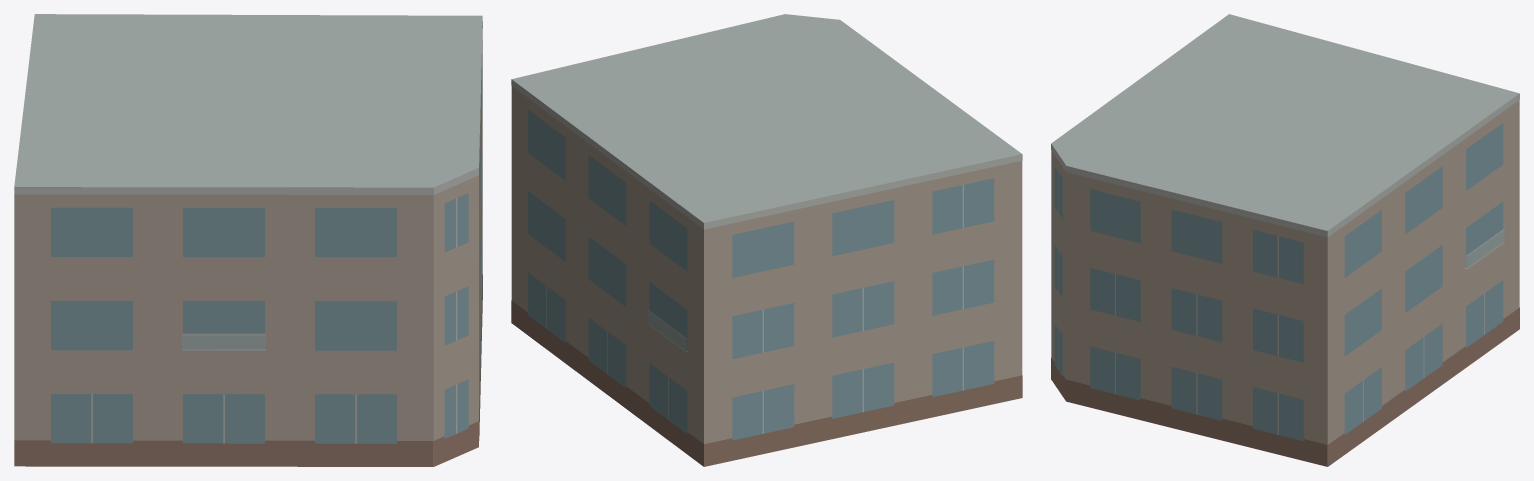
The model's file is survey-upis-32916045.glb.
3 views of the same model, side by side, from view 1: azimuth 30°, elevation 25°; view 2: azimuth 150°, elevation 25°; view 3: azimuth 270°, elevation 25° (orthographic). The views are drawn at different scales.
Parts seen in each view (by area): view 1: survey-upis-32916045.tmp; view 2: survey-upis-32916045.tmp; view 3: survey-upis-32916045.tmp.
Part boxes in pixels (<box>): survey-upis-32916045.tmp: <box>14,14,482,466</box>; survey-upis-32916045.tmp: <box>511,14,1022,466</box>; survey-upis-32916045.tmp: <box>1051,14,1519,466</box>.
Size of the model in its own units: 18.07 by 9.15 by 16.49.
